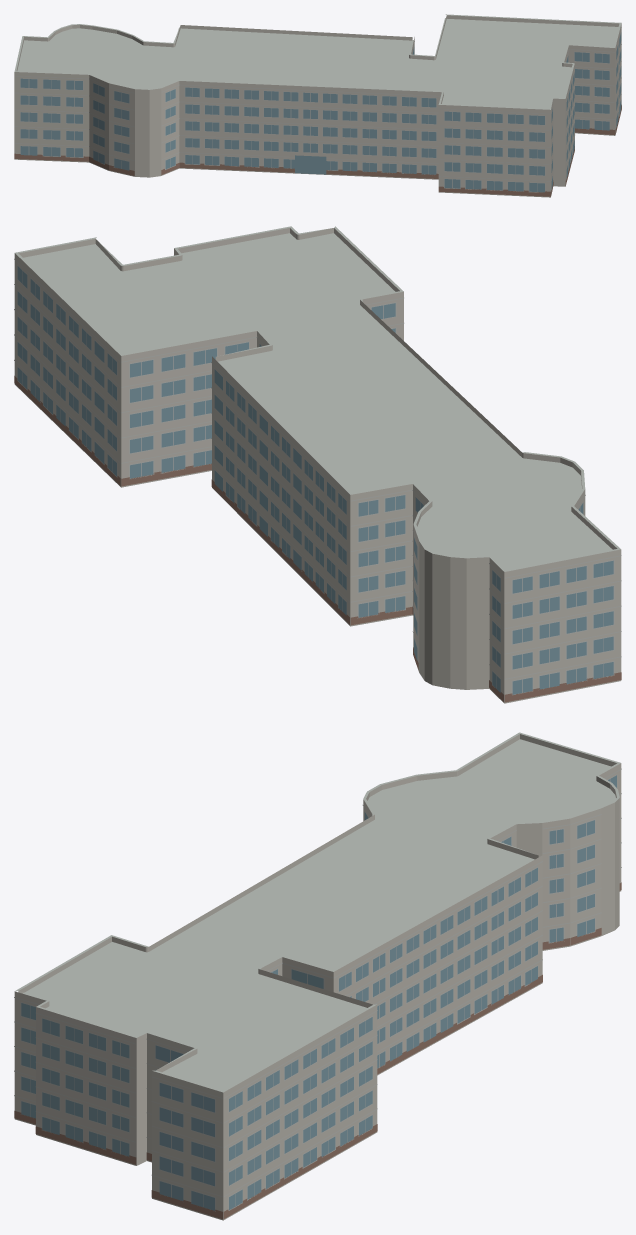
Rendered from public-b96d8337-91b9-4144-a5a7-90c83d603519.glb.
3 renders of one model, top to bottom at view 1: azimuth 30°, elevation 25°; view 2: azimuth 150°, elevation 25°; view 3: azimuth 270°, elevation 25°, orthographic. The views are drawn at different scales.
Visible parts, largest first — view 1: public-b96d8337-91b9-4144-a5a7-90c83d603519; view 2: public-b96d8337-91b9-4144-a5a7-90c83d603519; view 3: public-b96d8337-91b9-4144-a5a7-90c83d603519.
Part boxes in pixels (<box>): public-b96d8337-91b9-4144-a5a7-90c83d603519: <box>14,14,621,197</box>; public-b96d8337-91b9-4144-a5a7-90c83d603519: <box>14,226,621,703</box>; public-b96d8337-91b9-4144-a5a7-90c83d603519: <box>14,732,621,1220</box>.
Bounding box in the file's own units: 92.12 × 15.25 × 65.64.
